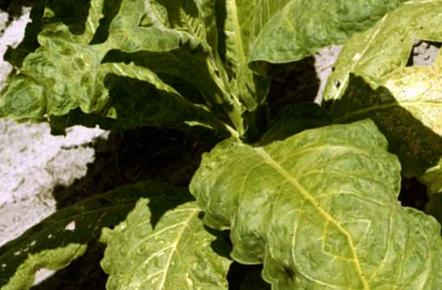Tomato leaf mosaic virus: (171, 65, 423, 290), (0, 18, 211, 236), (24, 158, 252, 290), (220, 0, 404, 96)
